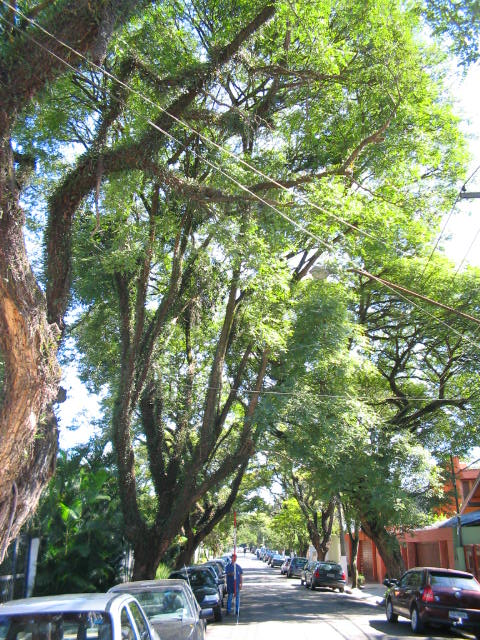stem: (117, 547, 163, 618)
stick: (229, 509, 241, 617)
tree: (118, 5, 464, 617)
